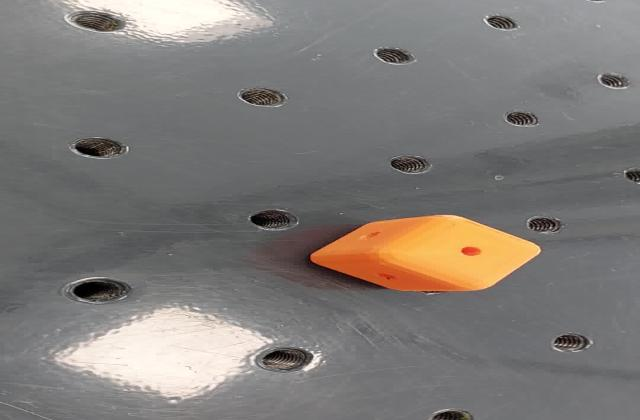cube: (301, 212, 548, 296)
